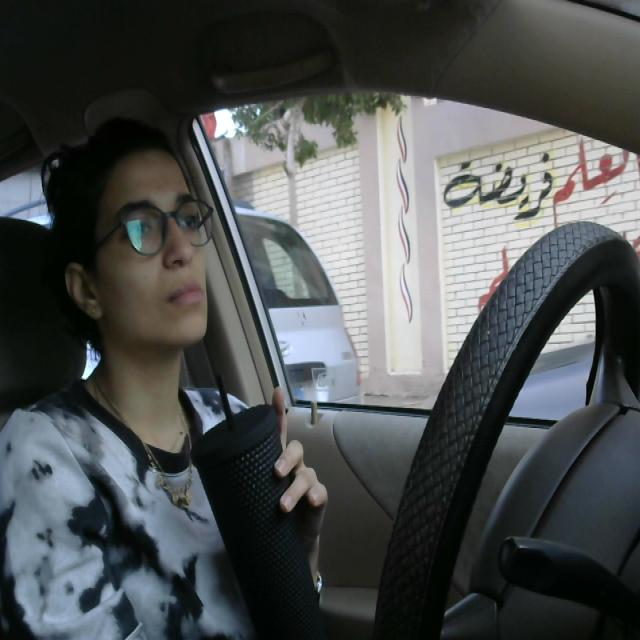drinking: (191, 363, 334, 640)
